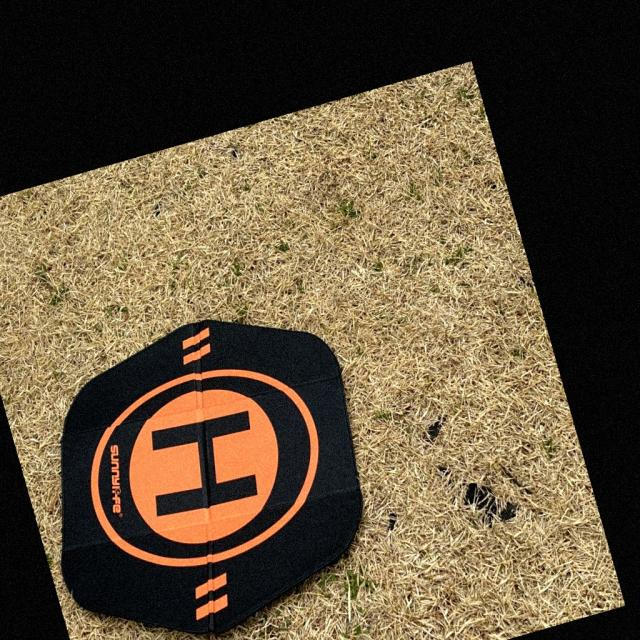helipad: (87, 366, 323, 570)
